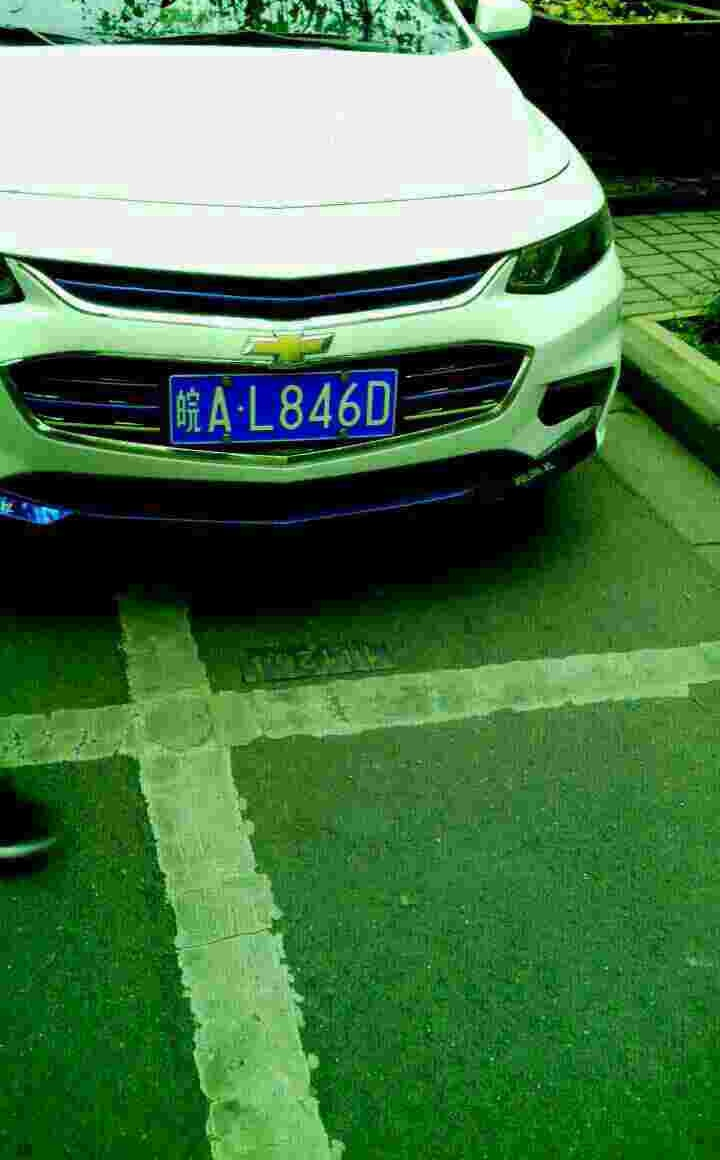license_plate: (165, 365, 403, 455)
